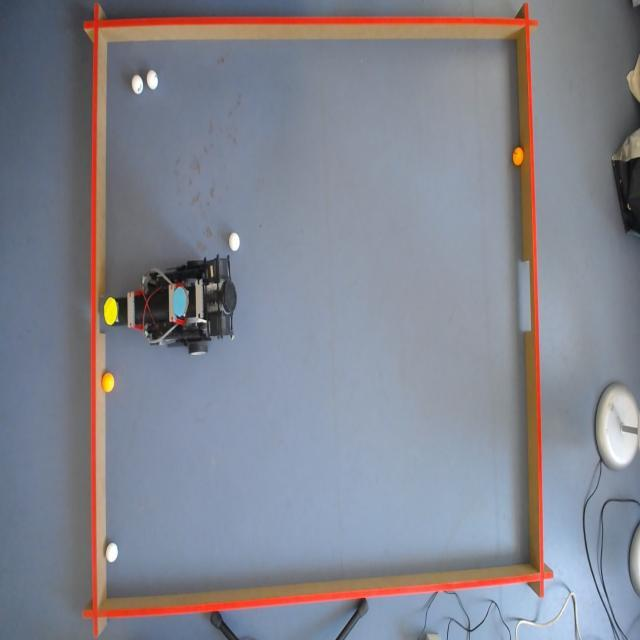orange: (510, 147, 524, 167), (102, 372, 115, 392)
robot: (102, 255, 238, 353)
robot-front: (104, 296, 118, 326)
robot-rear: (172, 286, 190, 316)
white: (104, 542, 118, 564), (148, 69, 160, 90), (132, 76, 144, 96), (228, 232, 238, 252)
